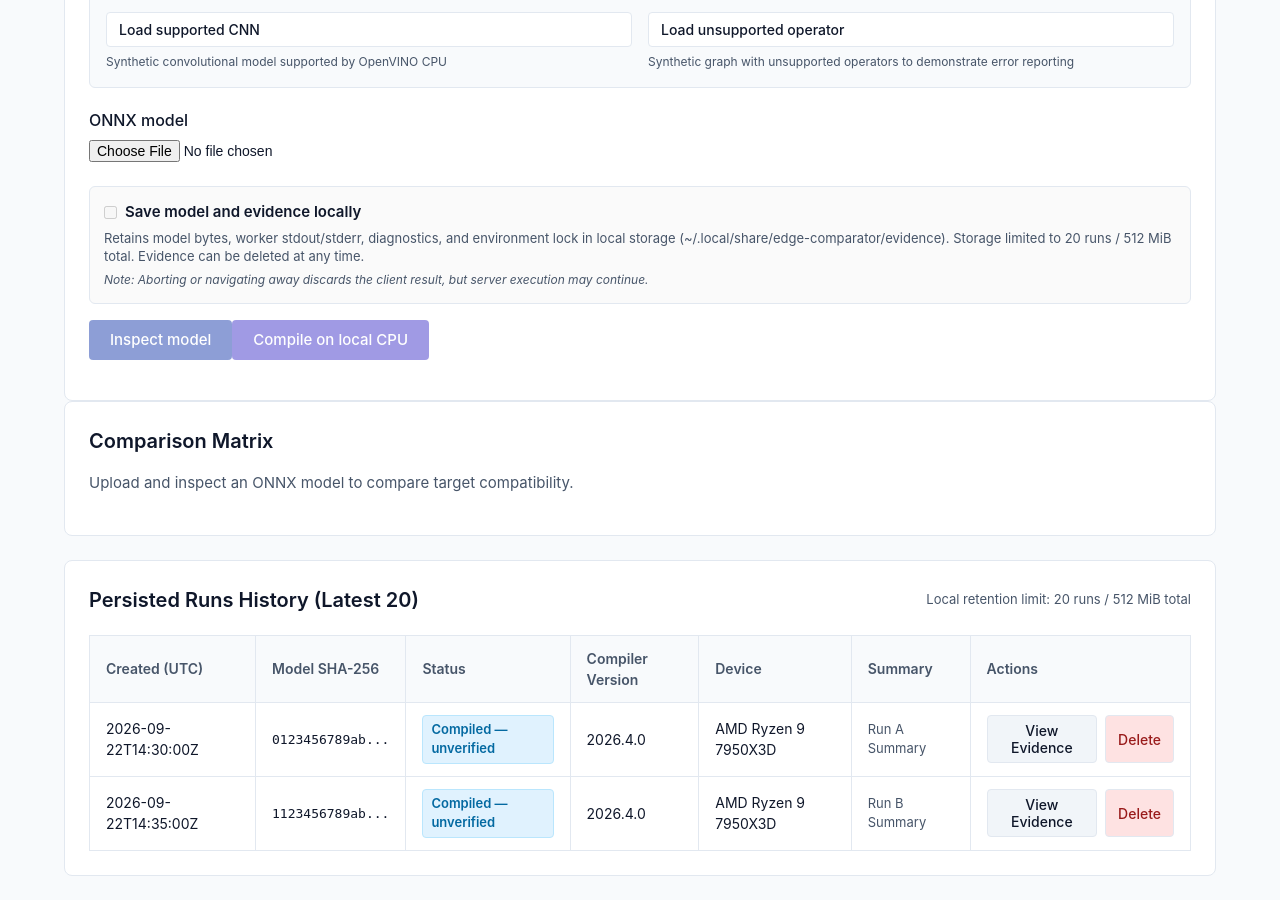
Test: App integration › discards stale historical fetch if user views another run before the first resolves
(page scrolled)
Expected: the text "Run A Summary" is shown, [851,702,970,776]
Expected: the text "Run B Summary" is shown, [851,776,970,850]
# Click View A then View B
Click the button "View Evidence" in the row of "2026-09-22T14:30:00Z".
click(1042, 739)  # box [986,715,1097,763]
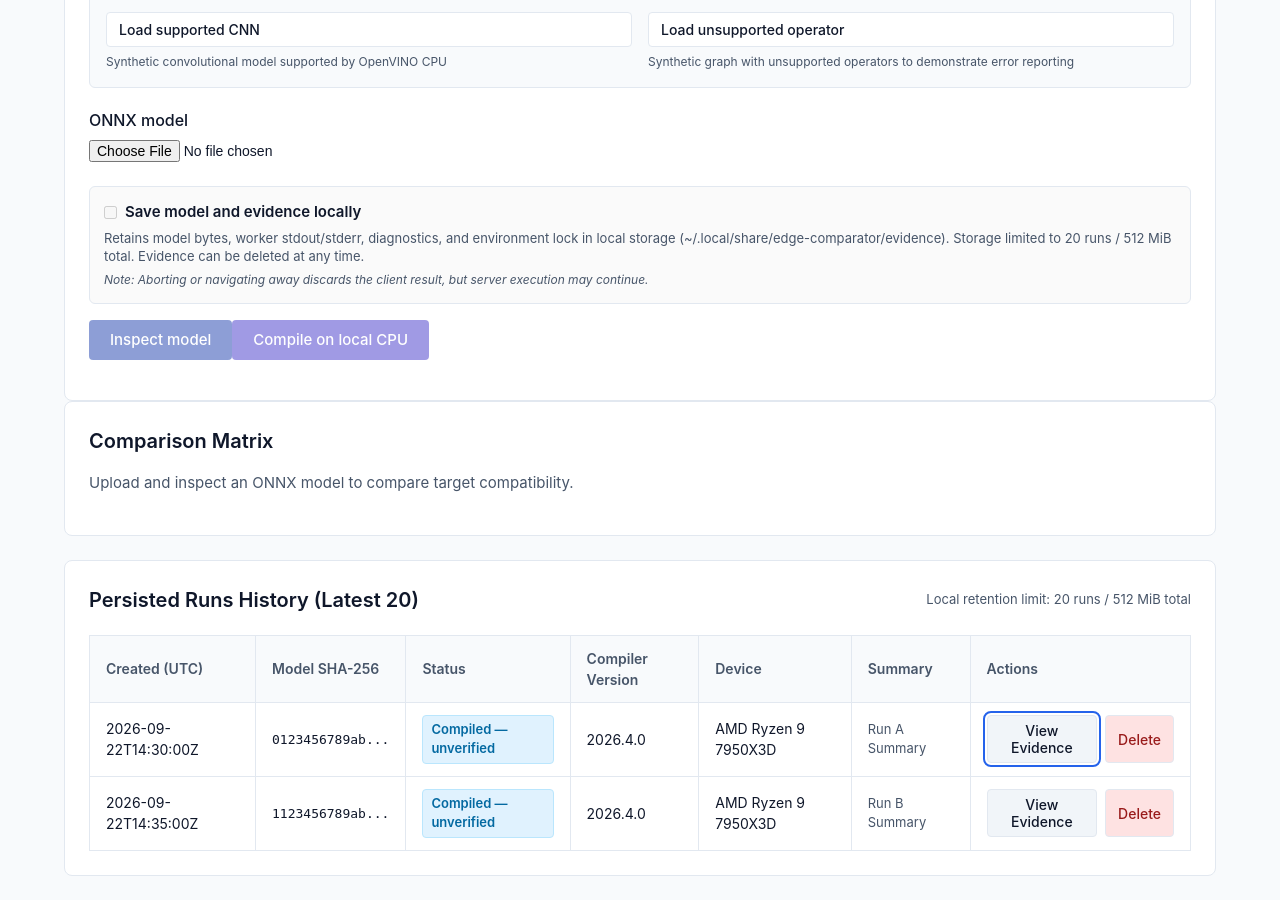
Click the button "View Evidence" in the row of "2026-09-22T14:35:00Z".
click(1042, 813)  # box [986,789,1097,837]
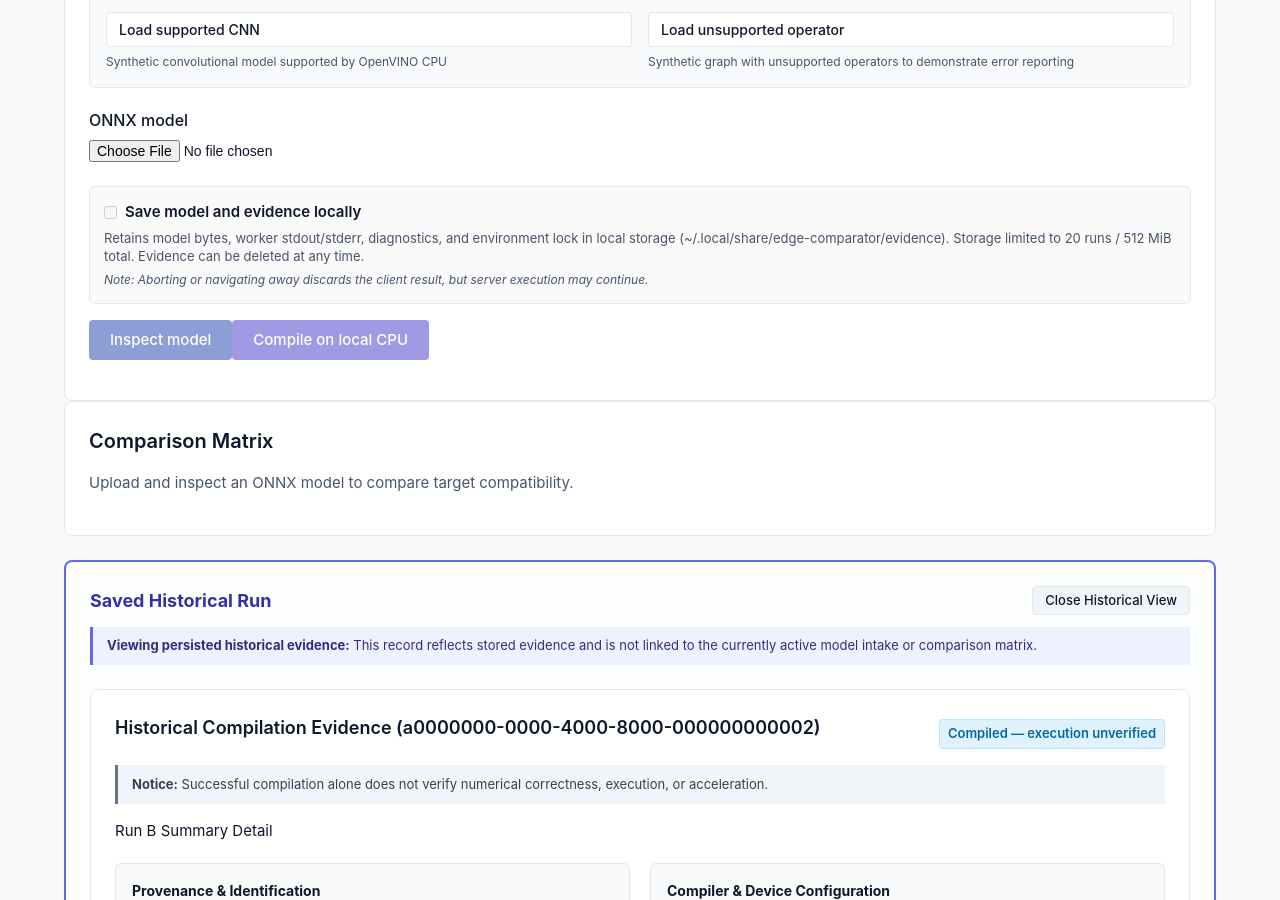
Expected: the text "Run B Summary Detail" is shown, [115,821,273,840]
